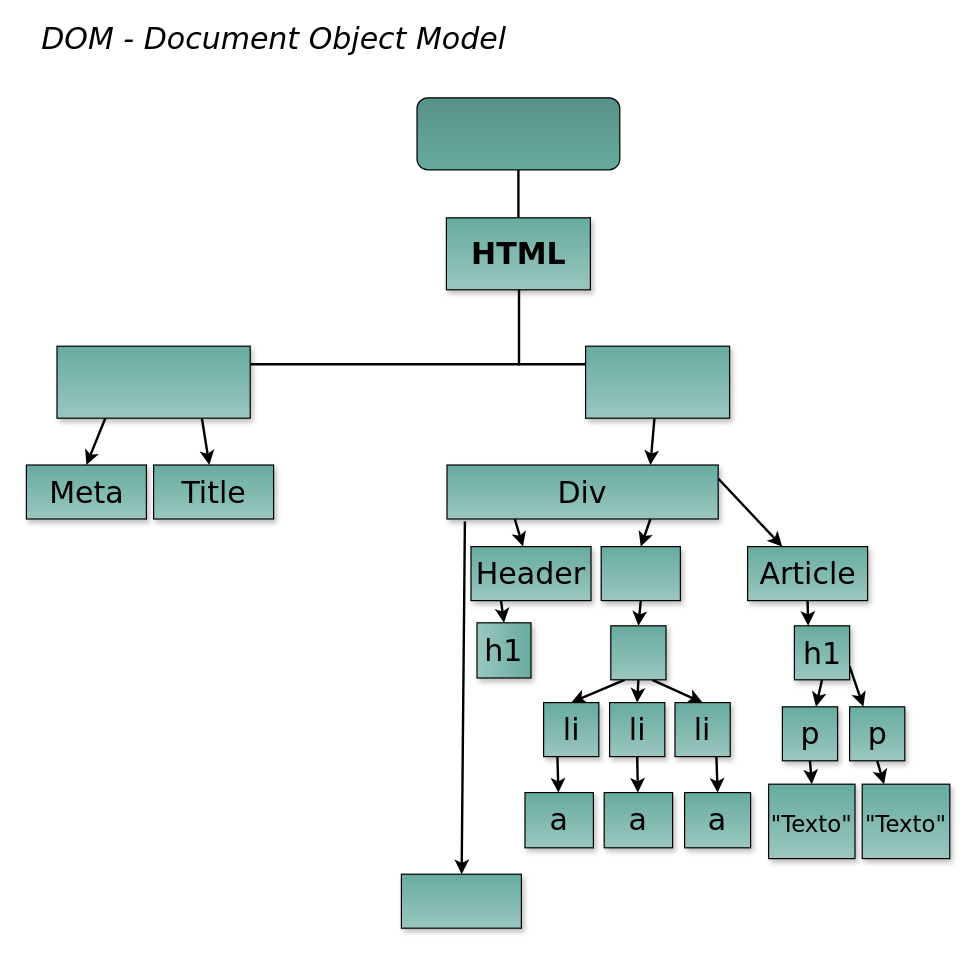
This 978x958 diagram has some shape labels left out. Each missing label, with the centre of its shape:
Body: [658,383]
Documento: [518,133]
Footer: [462,902]
Head: [154,383]
Nav: [641,575]
ul: [639,654]
